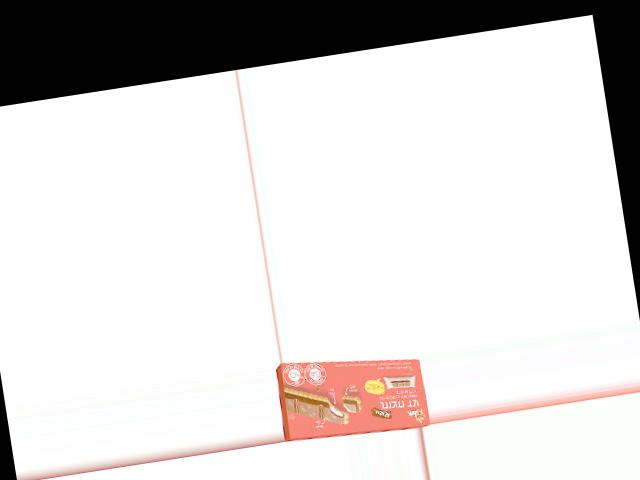chocolate: (276, 350, 430, 442)
